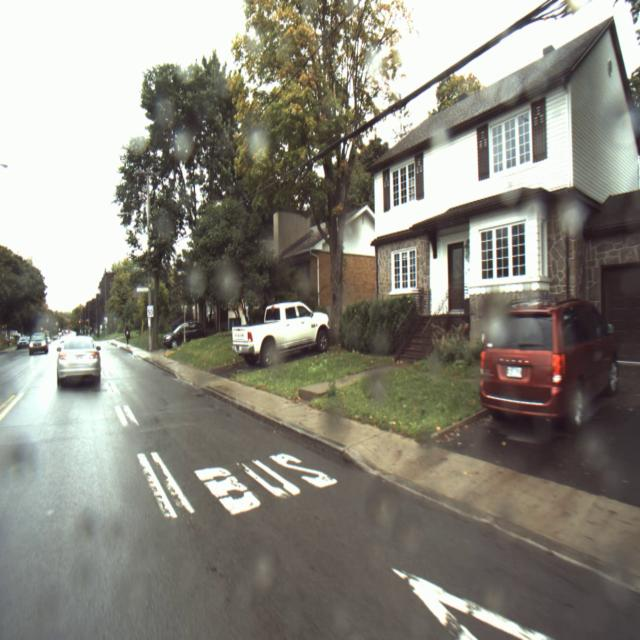car: (30, 334, 48, 354), (16, 335, 29, 348)
